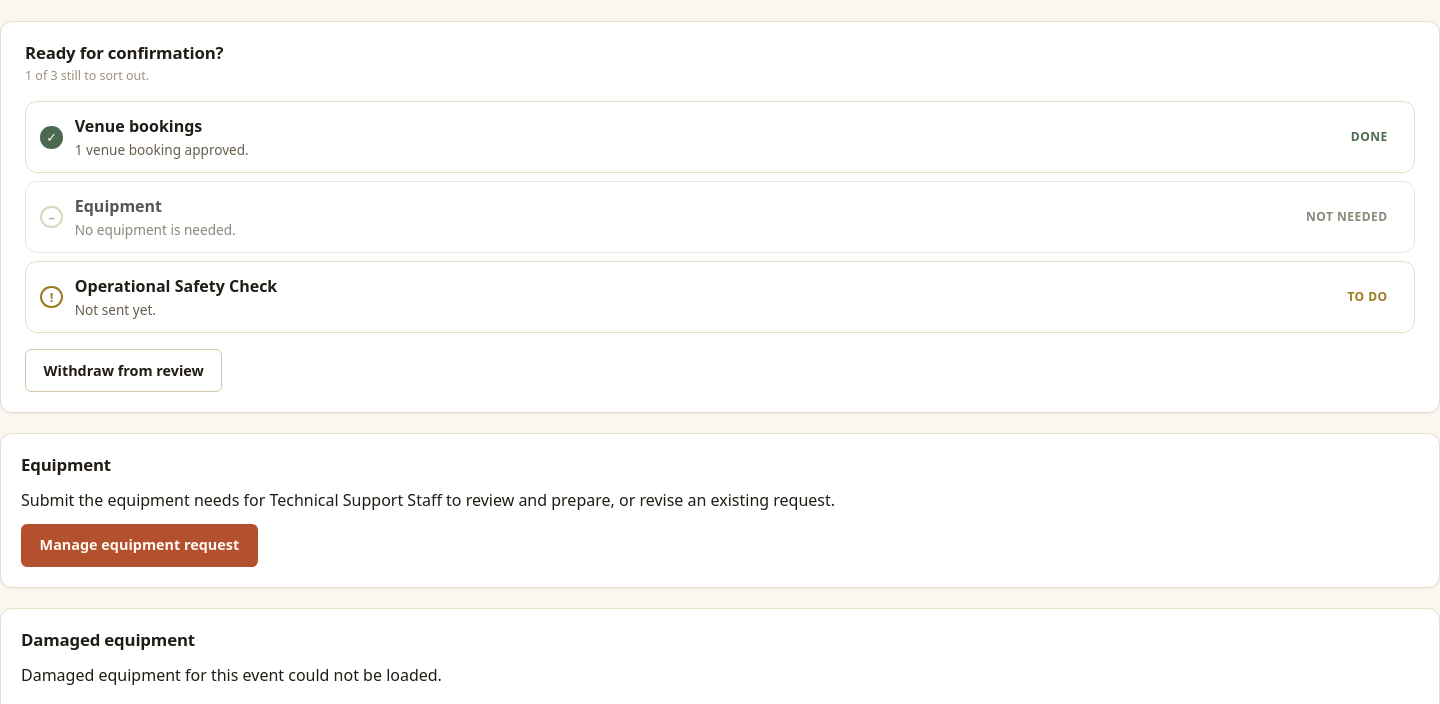
Test case: EC08 readiness, send for safety review, withdraw and confirm › EC08 AC19 (negative): requires a reason to withdraw and sends it
(page scrolled)
Click the button "Withdraw from review": (124, 371) 25,349 -> 222,392
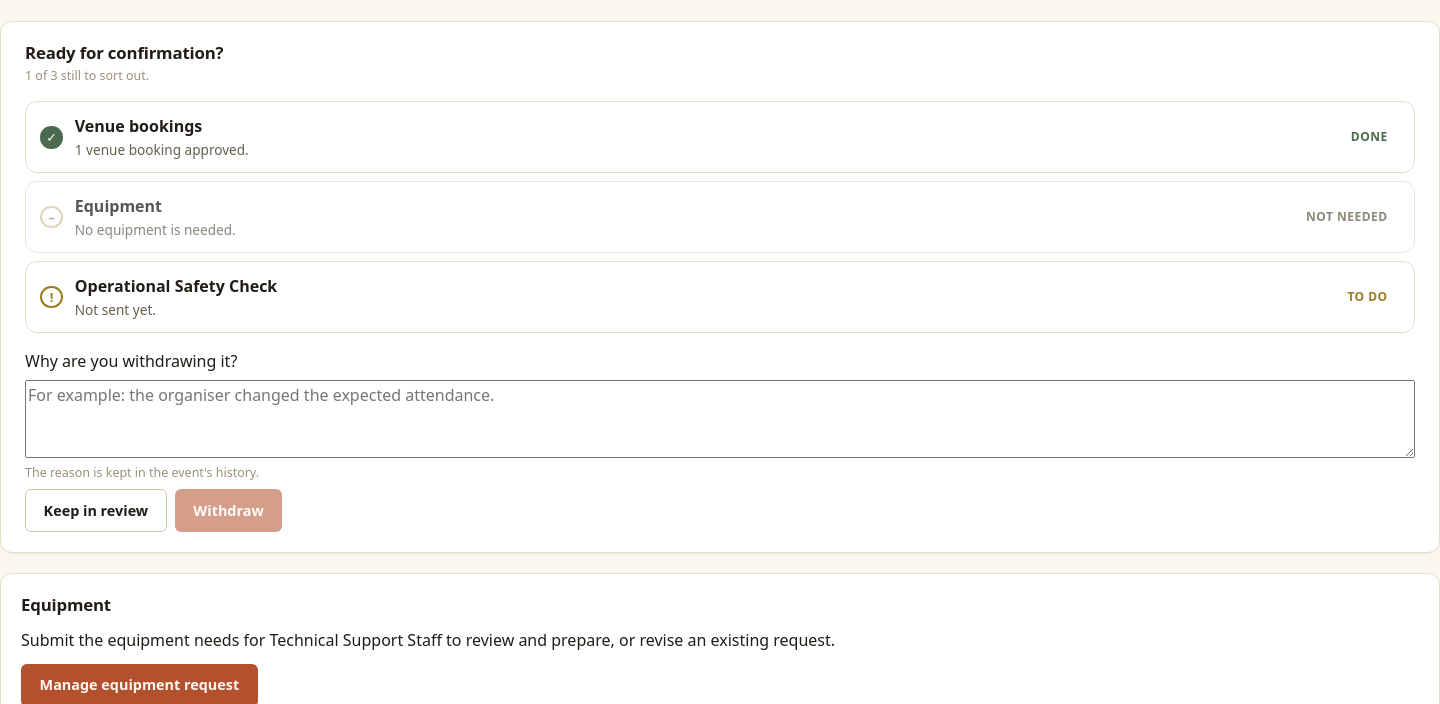
Result: the button "Withdraw" is disabled at 175,489 -> 282,532
In the text box labelled "Why are you withdrawing it?": (720, 419) 25,380 -> 1415,458, type "Attendance changed"
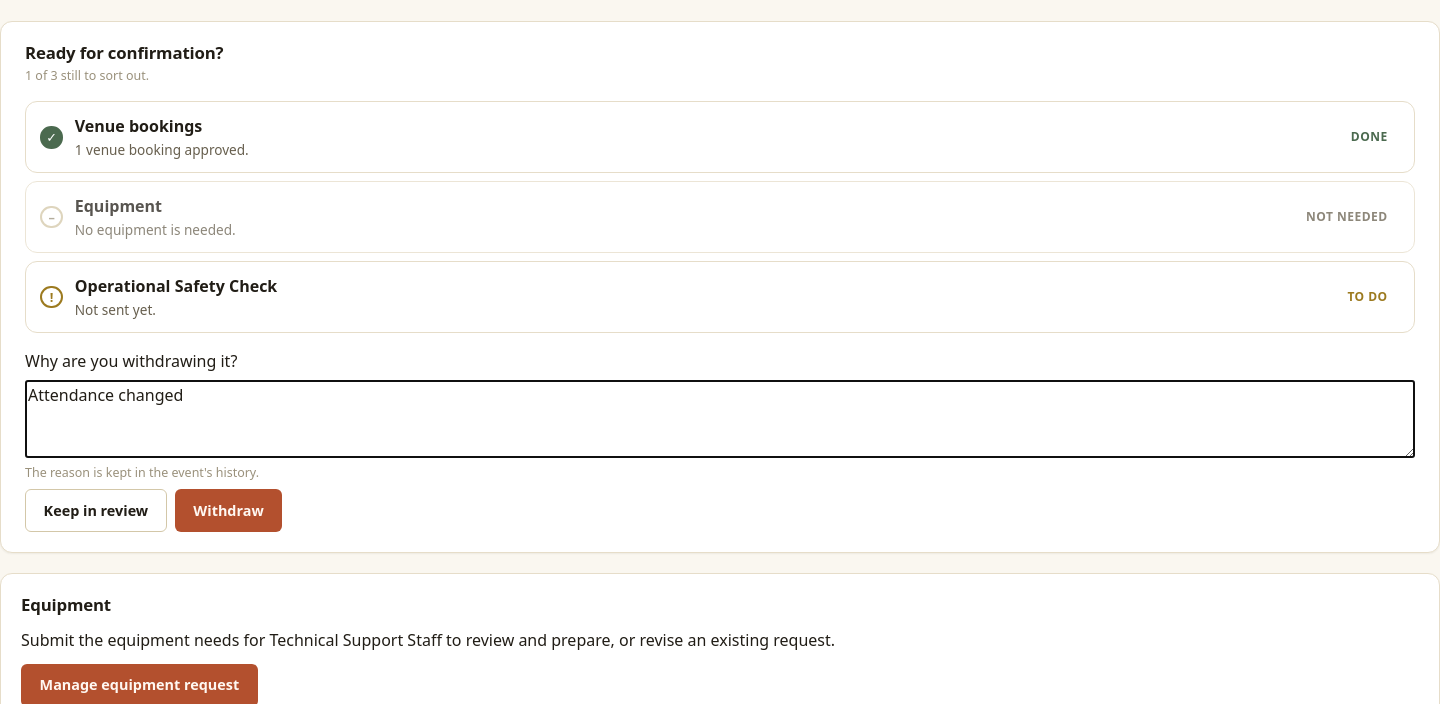
Click the button "Withdraw": (229, 511) 175,489 -> 282,532
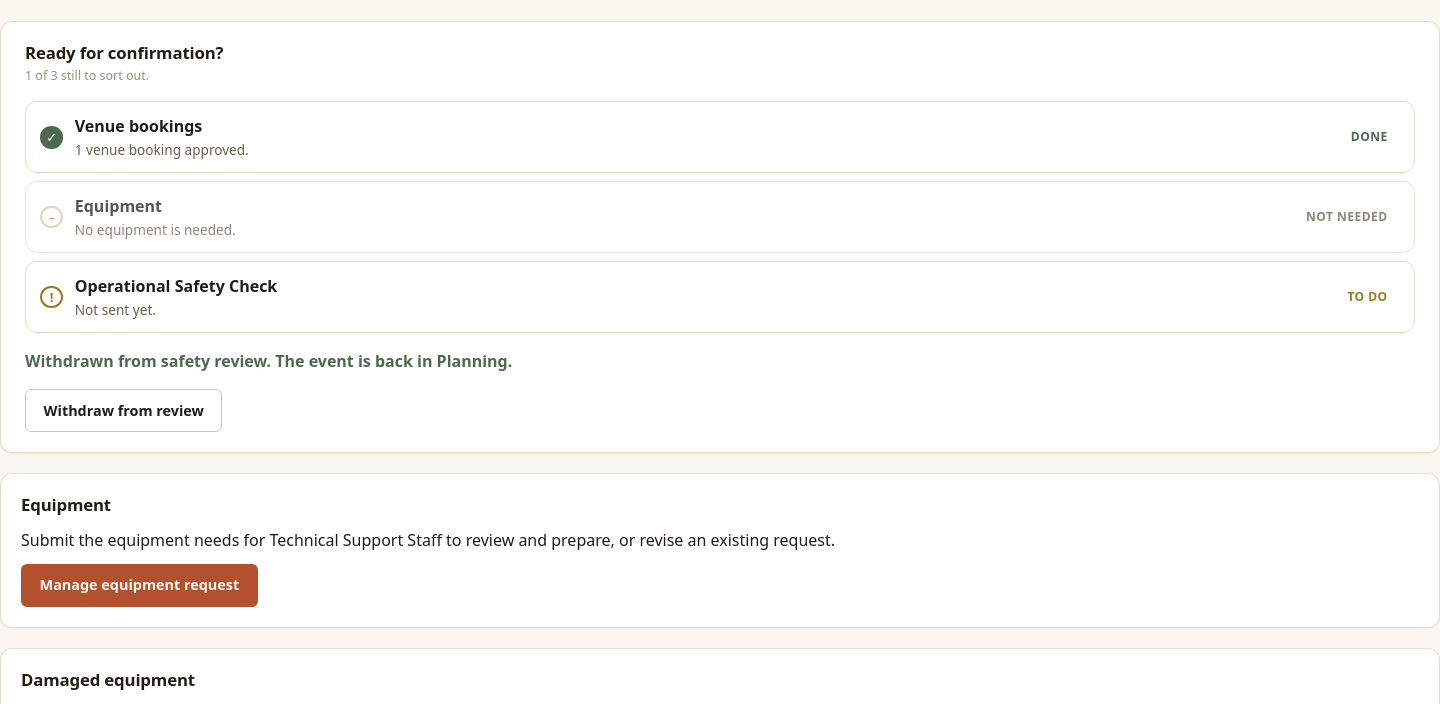
Result: the text "Withdrawn from safety review. The event is back in Planning." is shown at 25,350 -> 512,372
